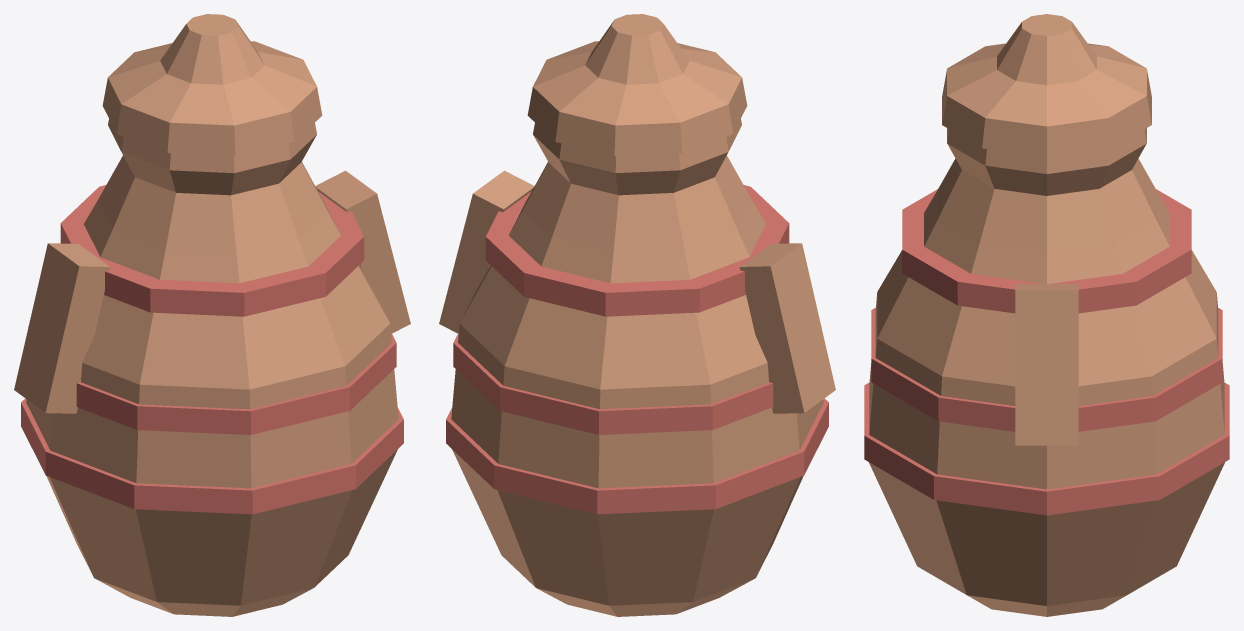
Rendered from andean-terraces-and-stone-village-water-jar-large-25d0a6a4__38263.glb.
3 renders of one model, left to right at view 1: azimuth 30°, elevation 25°; view 2: azimuth 150°, elevation 25°; view 3: azimuth 270°, elevation 25°, orthographic.
Parts seen in each view (by area): view 1: water-jar-large-clay, water-jar-large-cloth, lid; view 2: water-jar-large-clay, water-jar-large-cloth, lid; view 3: water-jar-large-clay, water-jar-large-cloth, lid.
Boxes of the visible parts, x1,y1,x2,y2 form: water-jar-large-clay: (14,119,410,616); water-jar-large-cloth: (21,185,403,514); lid: (102,14,322,156); water-jar-large-clay: (439,119,835,616); water-jar-large-cloth: (446,185,828,514); lid: (527,14,747,156); water-jar-large-clay: (869,128,1224,616); water-jar-large-cloth: (864,189,1229,515); lid: (942,14,1151,157).
Bounding box in the file's own units: 0.8021 × 1.16 × 0.6962.
